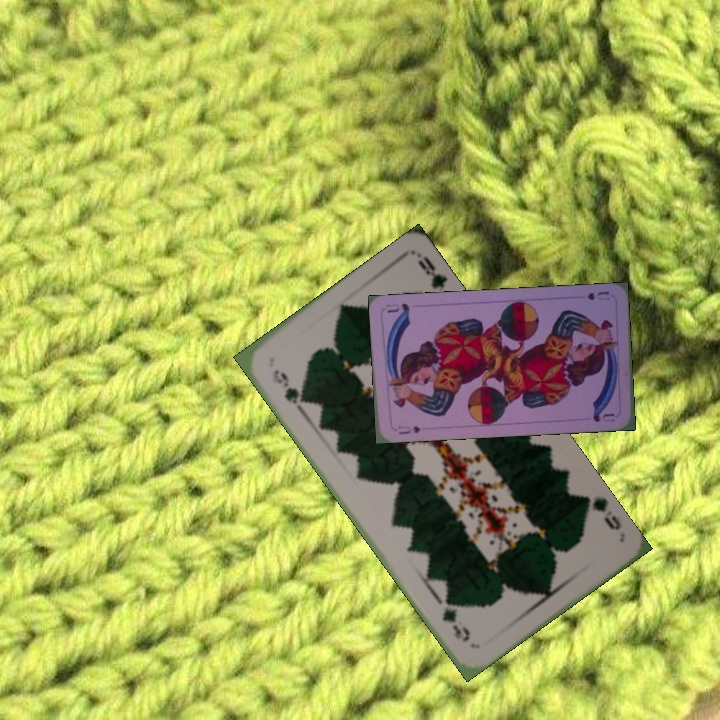G9: (579, 491, 625, 533), (268, 365, 309, 408)
SU: (583, 287, 612, 303), (394, 422, 423, 437)
